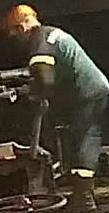helmet: (4, 3, 39, 29)
vest: (27, 22, 109, 104)
